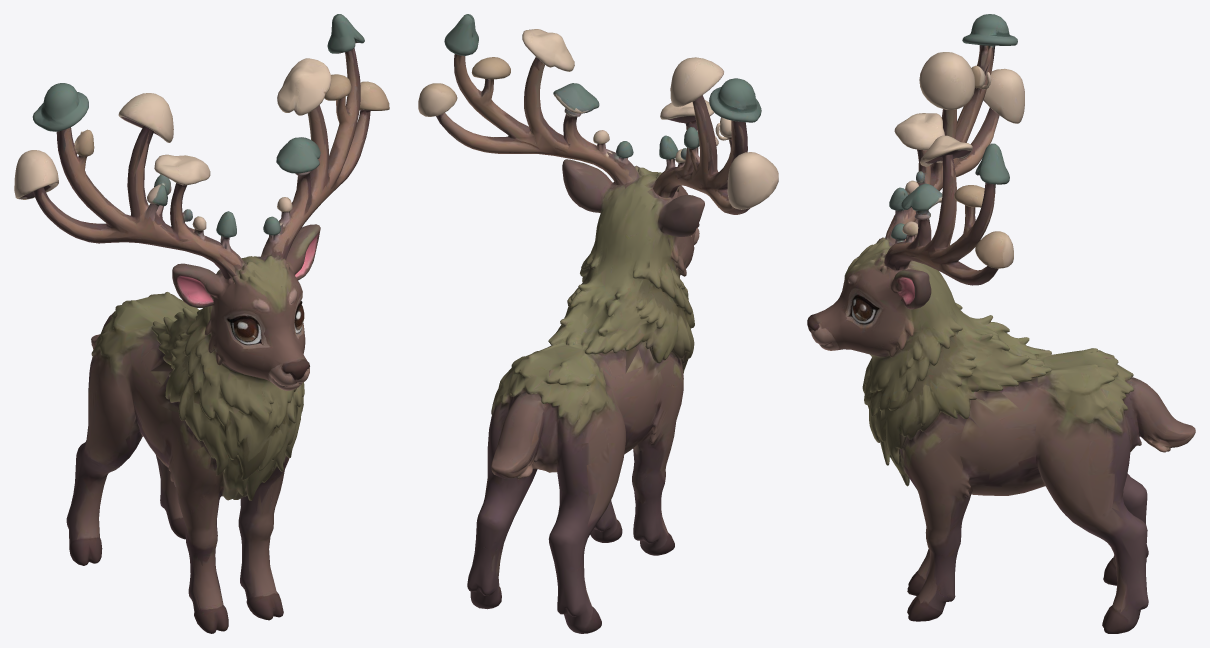
3 views of the same model, side by side, from view 1: azimuth 30°, elevation 25°; view 2: azimuth 150°, elevation 25°; view 3: azimuth 270°, elevation 25° (orthographic). The views are drawn at different scales.
Visible parts, largest first — view 1: Mesh_0; view 2: Mesh_0; view 3: Mesh_0.
Part boxes in pixels (x1,y1,x2,y2): Mesh_0: (14,14,389,633); Mesh_0: (418,14,778,633); Mesh_0: (807,14,1195,633).
Size of the model in its own units: 1.34 by 1.89 by 1.27.
Materials: 1 (1 with a texture image).
